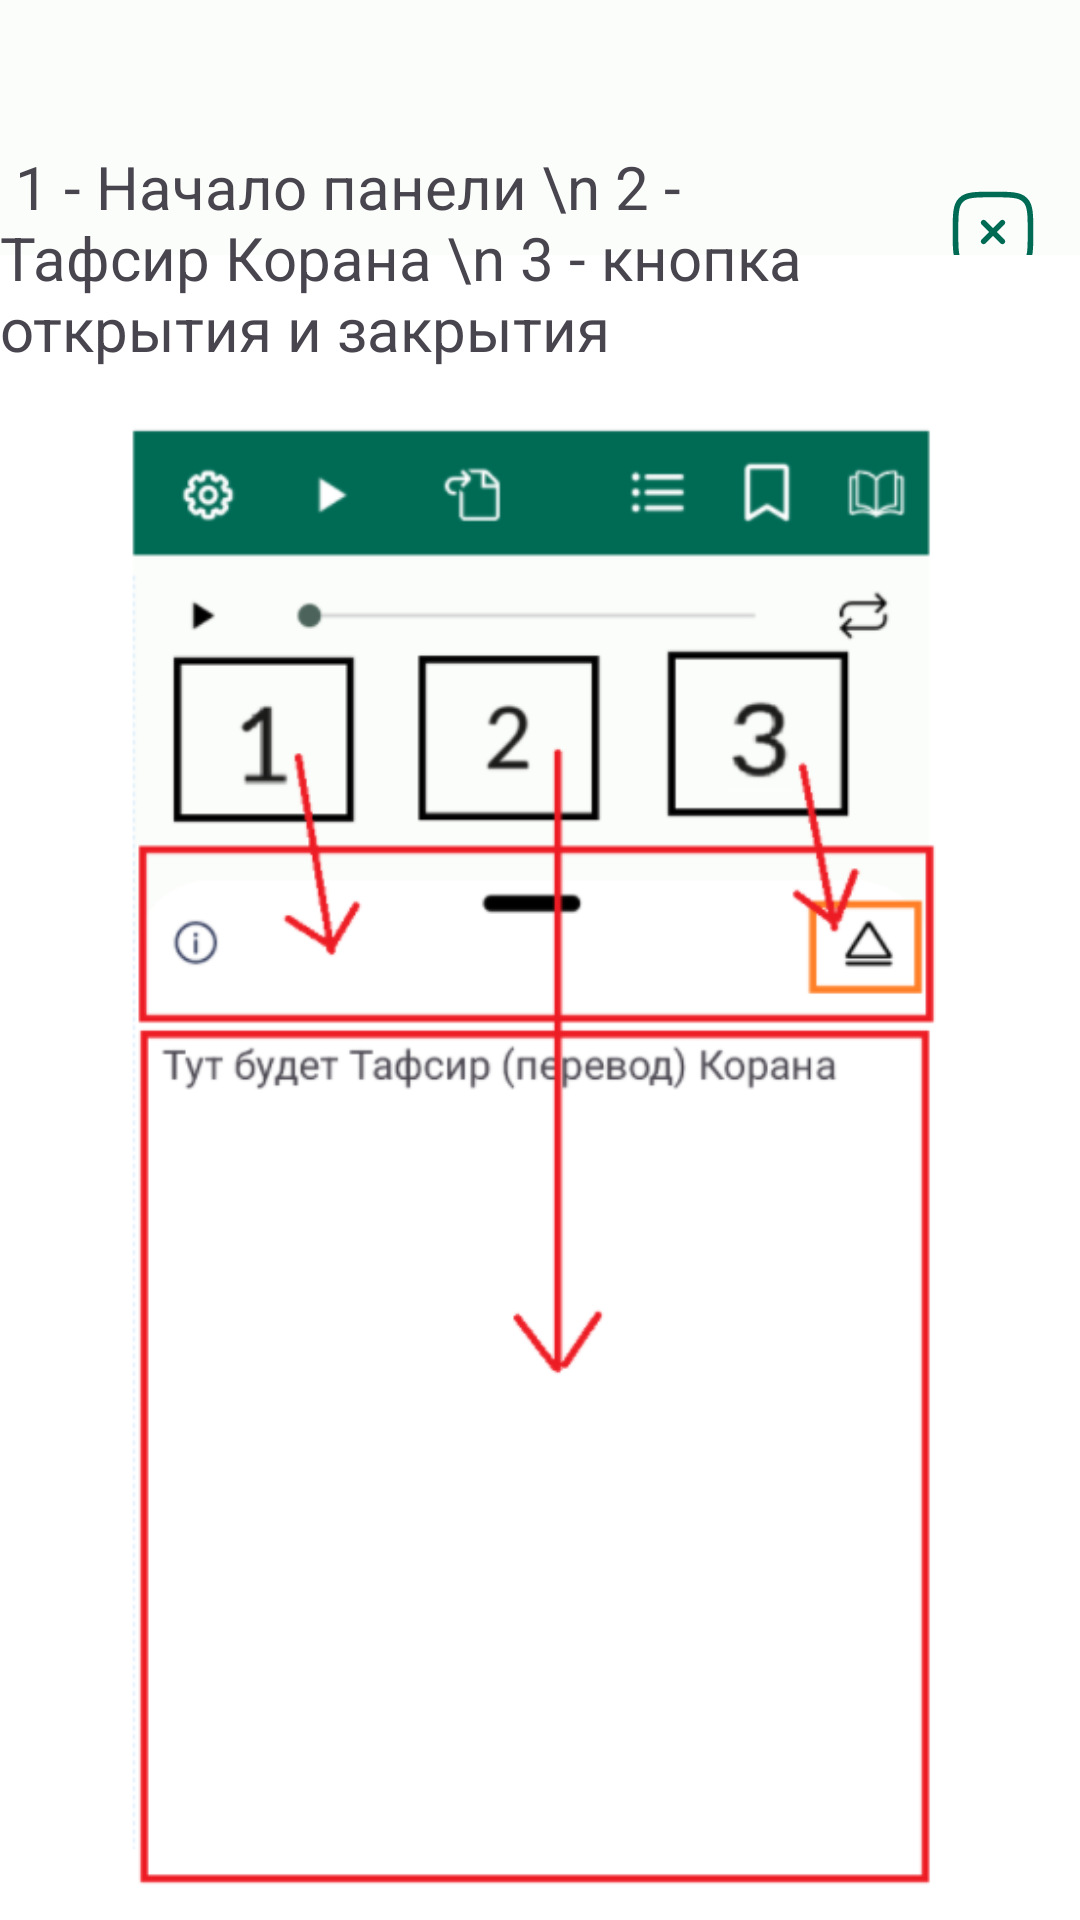

Named icons in this screenshot (1080 × 1920) and their centers, point (x, y):
close: point (993, 223)
